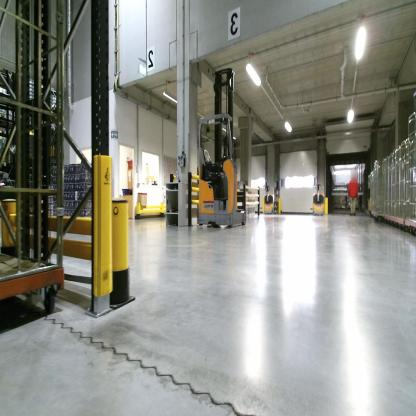forklift: (195, 72, 253, 233)
pallet_truck: (312, 176, 328, 218), (260, 177, 274, 214)
